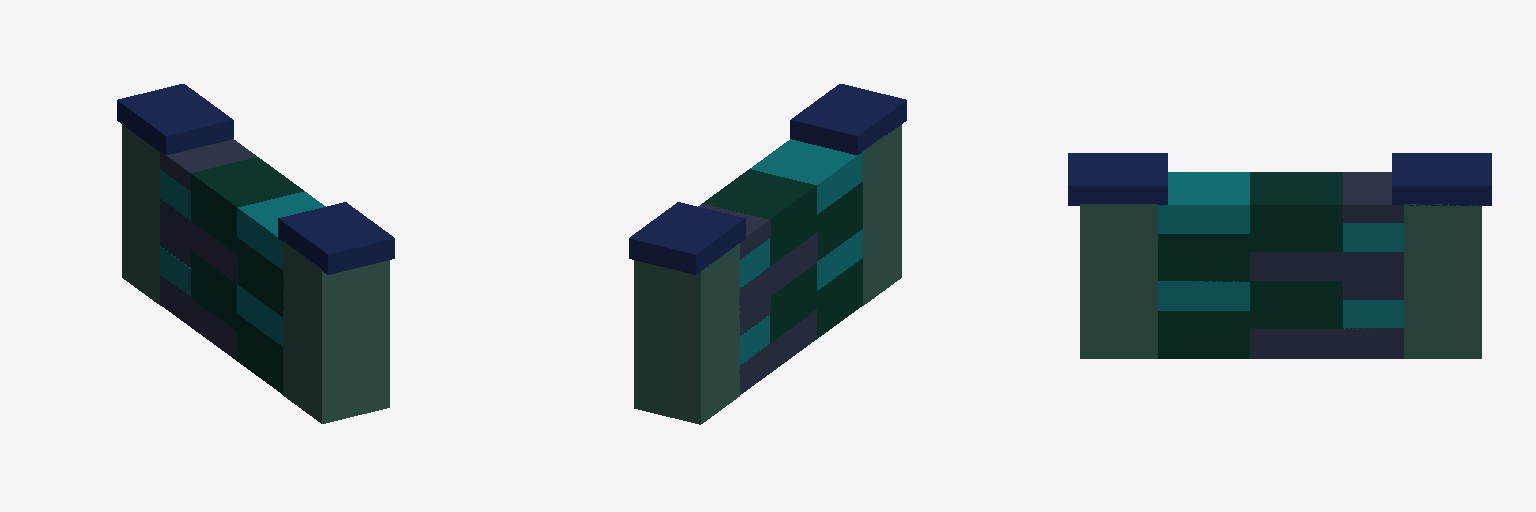
Rendered from Wall1.obj.
3 views of the same model, side by side, from view 1: azimuth 30°, elevation 25°; view 2: azimuth 150°, elevation 25°; view 3: azimuth 270°, elevation 25° (orthographic).
Visible parts, largest first — view 1: Object.7, Object.9, Object.8, Object.10, Object.6, Object.5, Object.3, Object.15, Object.19, Object.2, Object.18, Object.1 (+4 smaller); view 2: Object.9, Object.7, Object.10, Object.8, Object.6, Object.5, Object.15, Object.3, Object.19, Object.2, Object.18, Object.13 (+4 smaller); view 3: Object.7, Object.9, Object.6, Object.5, Object.10, Object.8, Object.3, Object.15, Object.2, Object.19, Object.18, Object.13 (+4 smaller).
Part boxes in pixels (x1,y1,x2,y2): Object.7: (283, 241, 389, 423); Object.9: (122, 123, 160, 305); Object.8: (278, 202, 394, 274); Object.10: (117, 84, 233, 154); Object.6: (191, 157, 303, 254); Object.5: (237, 191, 325, 270); Object.3: (160, 275, 237, 361); Object.15: (160, 199, 237, 284); Object.19: (237, 314, 282, 394); Object.2: (191, 250, 236, 330); Object.18: (237, 237, 283, 316); Object.1: (160, 139, 256, 190); Object.9: (634, 243, 739, 424); Object.7: (863, 125, 901, 305); Object.10: (629, 202, 745, 274); Object.8: (790, 84, 906, 154); Object.6: (703, 169, 816, 265); Object.5: (750, 139, 862, 214); Object.15: (739, 232, 817, 318); Object.3: (739, 309, 817, 394); Object.19: (817, 258, 862, 337); Object.2: (770, 263, 816, 343); Object.18: (817, 182, 862, 260); Object.13: (817, 229, 862, 290); Object.7: (1080, 204, 1157, 358); Object.9: (1404, 204, 1481, 358); Object.6: (1250, 172, 1342, 251); Object.5: (1157, 172, 1249, 233); Object.10: (1392, 153, 1491, 205); Object.8: (1068, 153, 1167, 205); Object.3: (1250, 328, 1404, 358); Object.15: (1250, 252, 1404, 280); Object.2: (1250, 281, 1342, 328); Object.19: (1157, 311, 1249, 358); Object.18: (1157, 234, 1249, 281); Object.13: (1157, 281, 1249, 310).
Size of the model in its own units: 25.4 by 62.64 by 138.